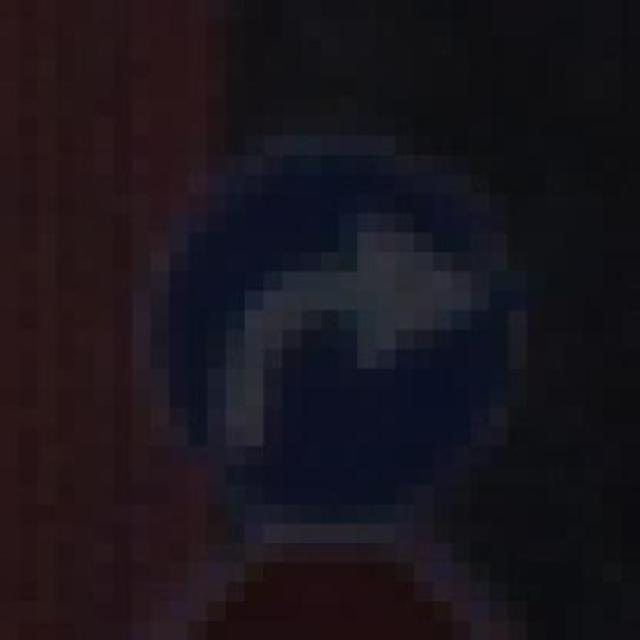Turn right ahead: (132, 77, 566, 543)
